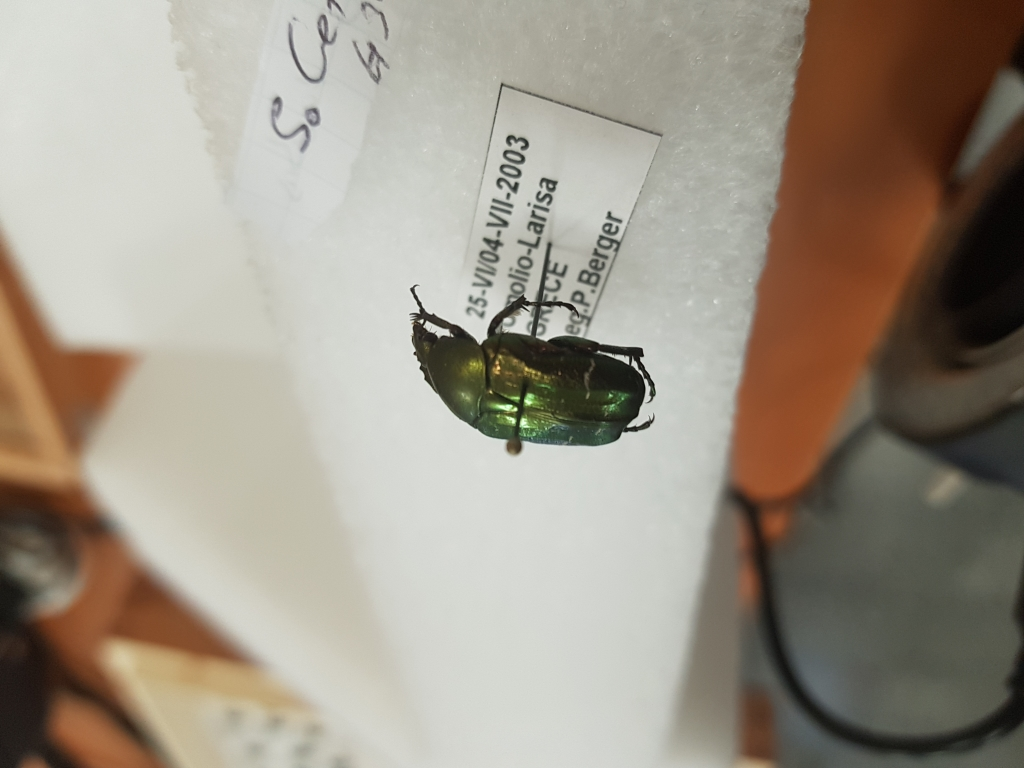Cetonia_aurata: (400, 279, 663, 453)
